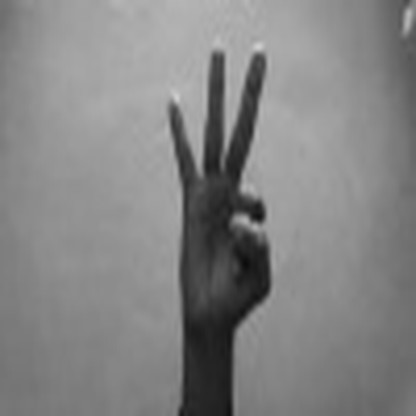f: (150, 32, 277, 336)
